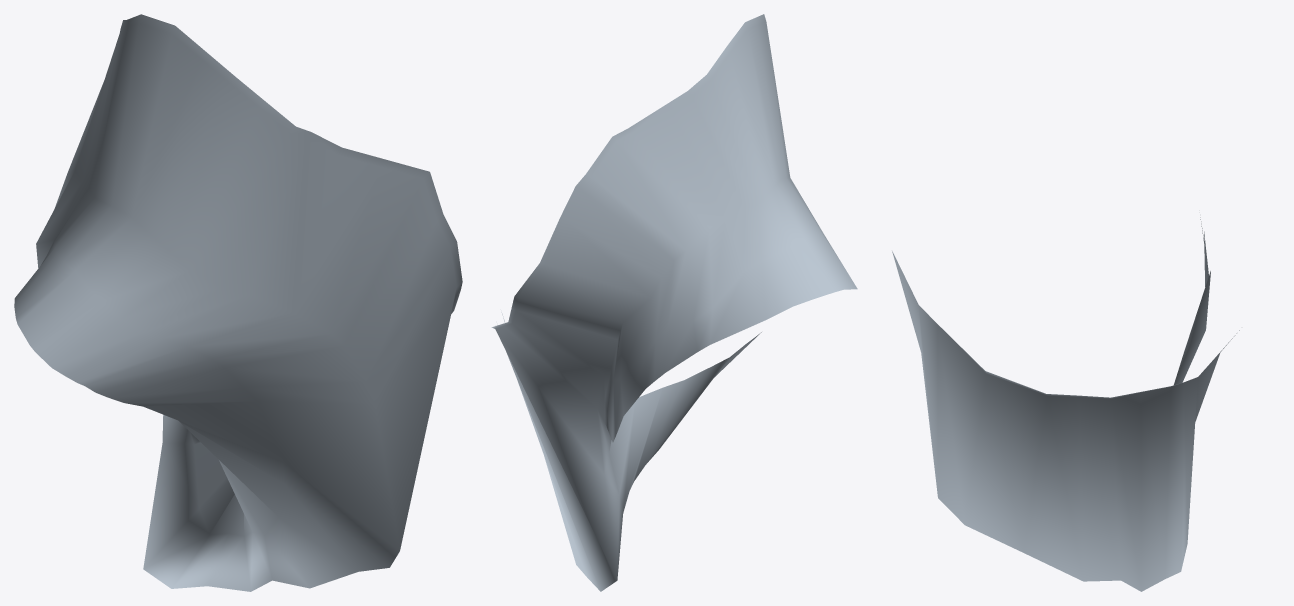
Rendered from articular-capsule-of-hip-joint-r.glb.
3 renders of one model, left to right at view 1: azimuth 30°, elevation 25°; view 2: azimuth 150°, elevation 25°; view 3: azimuth 270°, elevation 25°, orthographic. The views are drawn at different scales.
Parts seen in each view (by area): view 1: Articular capsule of hip joint.r; view 2: Articular capsule of hip joint.r; view 3: Articular capsule of hip joint.r.
Part boxes in pixels (x1=…): Articular capsule of hip joint.r: x1=14, y1=14, x2=462, y2=591; Articular capsule of hip joint.r: x1=491, y1=14, x2=857, y2=591; Articular capsule of hip joint.r: x1=892, y1=217, x2=1239, y2=591.
Bounding box in the file's own units: 0.0543 × 0.0858 × 0.0581.
